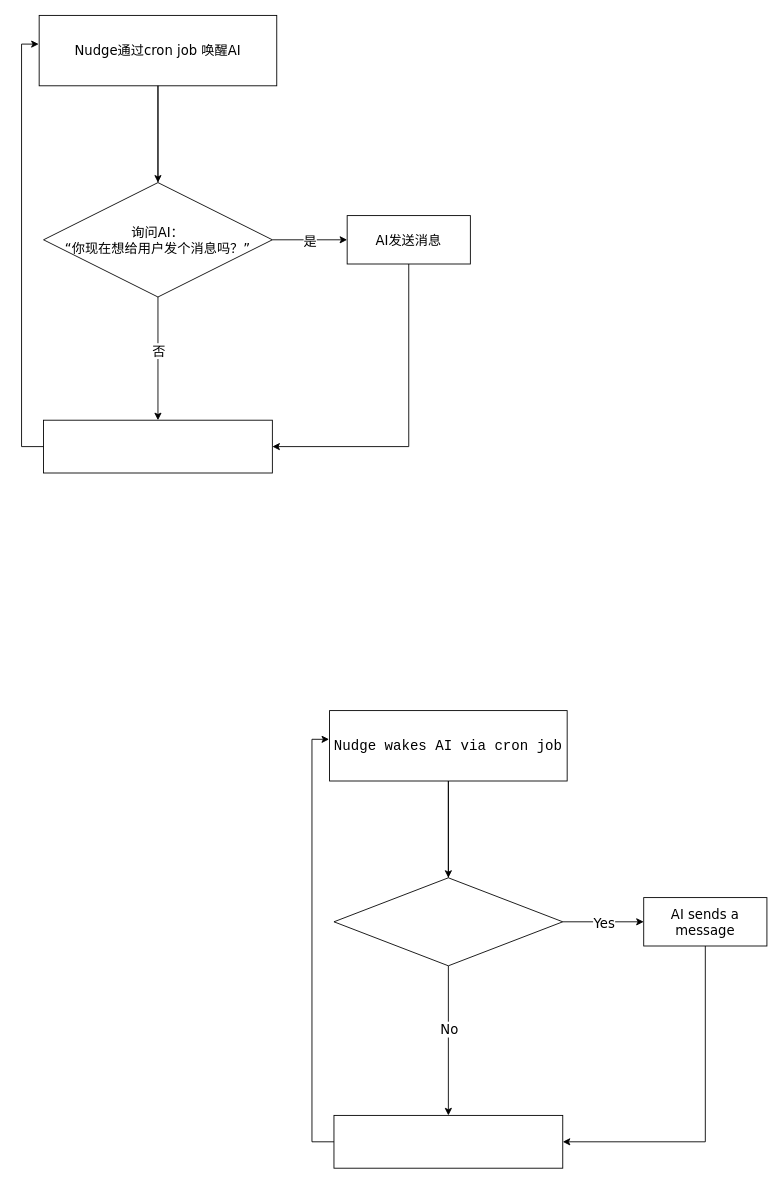
Some shapes in this 782 by 1184 pixel diagram are drawn without their labels. The centre of each missing label's shape, as x and y in pixels:
Ask AI： "Send the user a message now?": (x=448, y=921)
Set next wake time: (x=448, y=1141)
决定下一次唤醒时间: (x=157, y=446)
